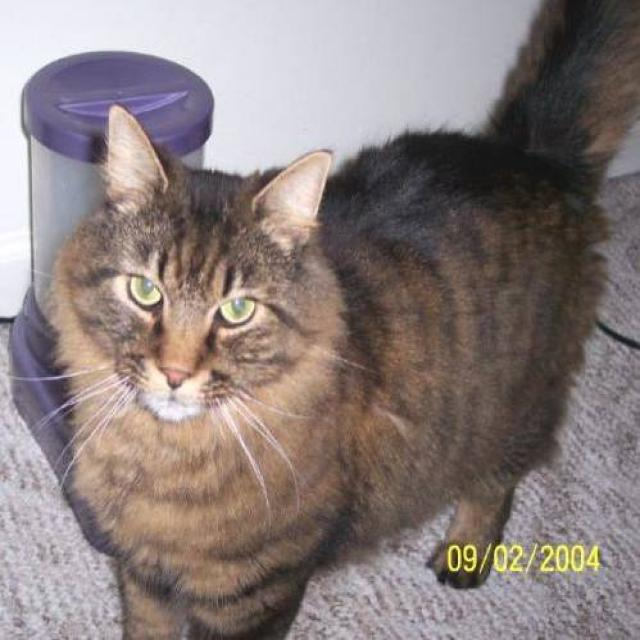cat: (34, 0, 638, 639)
